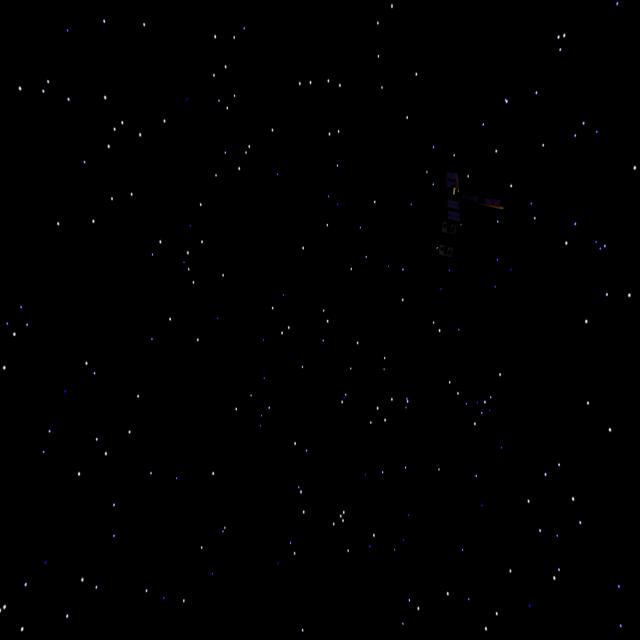satellite: (424, 172, 510, 270)
